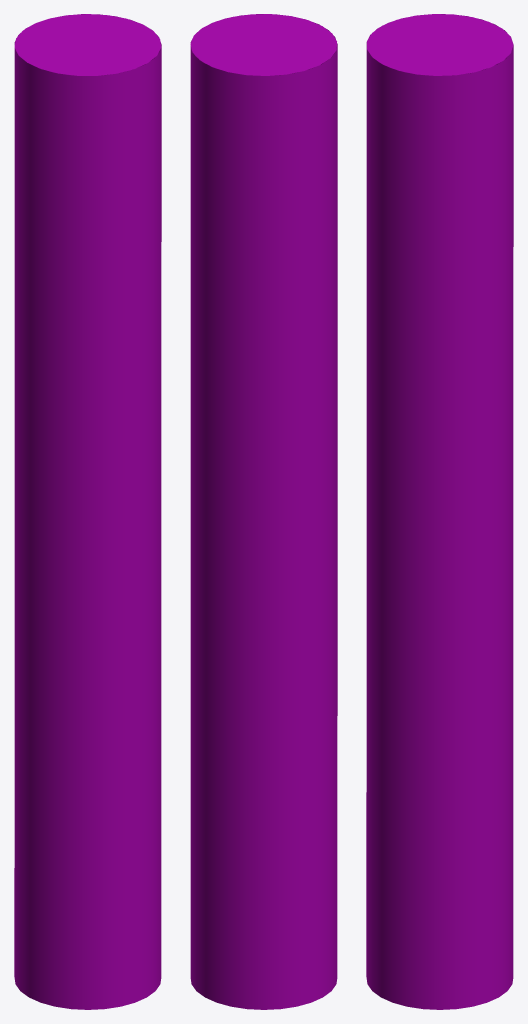
File: Expose_to_sunlight_tego.obj
The picture shows the model from 3 angles, left to right: view 1: azimuth 30°, elevation 25°; view 2: azimuth 150°, elevation 25°; view 3: azimuth 270°, elevation 25°; orthographic projection.
Parts seen in each view (by area): view 1: Bryła7; view 2: Bryła7; view 3: Bryła7.
Boxes of the visible parts, box(x1,y1,x2,y2) form: Bryła7: box(14, 14, 161, 1009); Bryła7: box(190, 14, 337, 1009); Bryła7: box(366, 14, 513, 1009).
Bounding box in the file's own units: 12.68 × 88.9 × 12.69.
